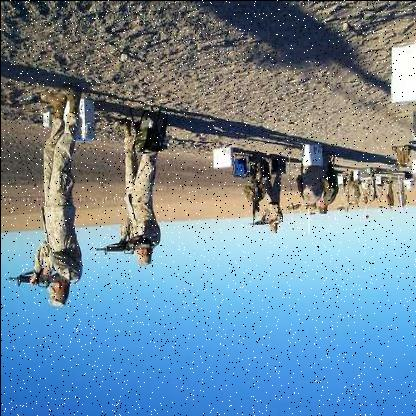rifle: (90, 223, 150, 258)
